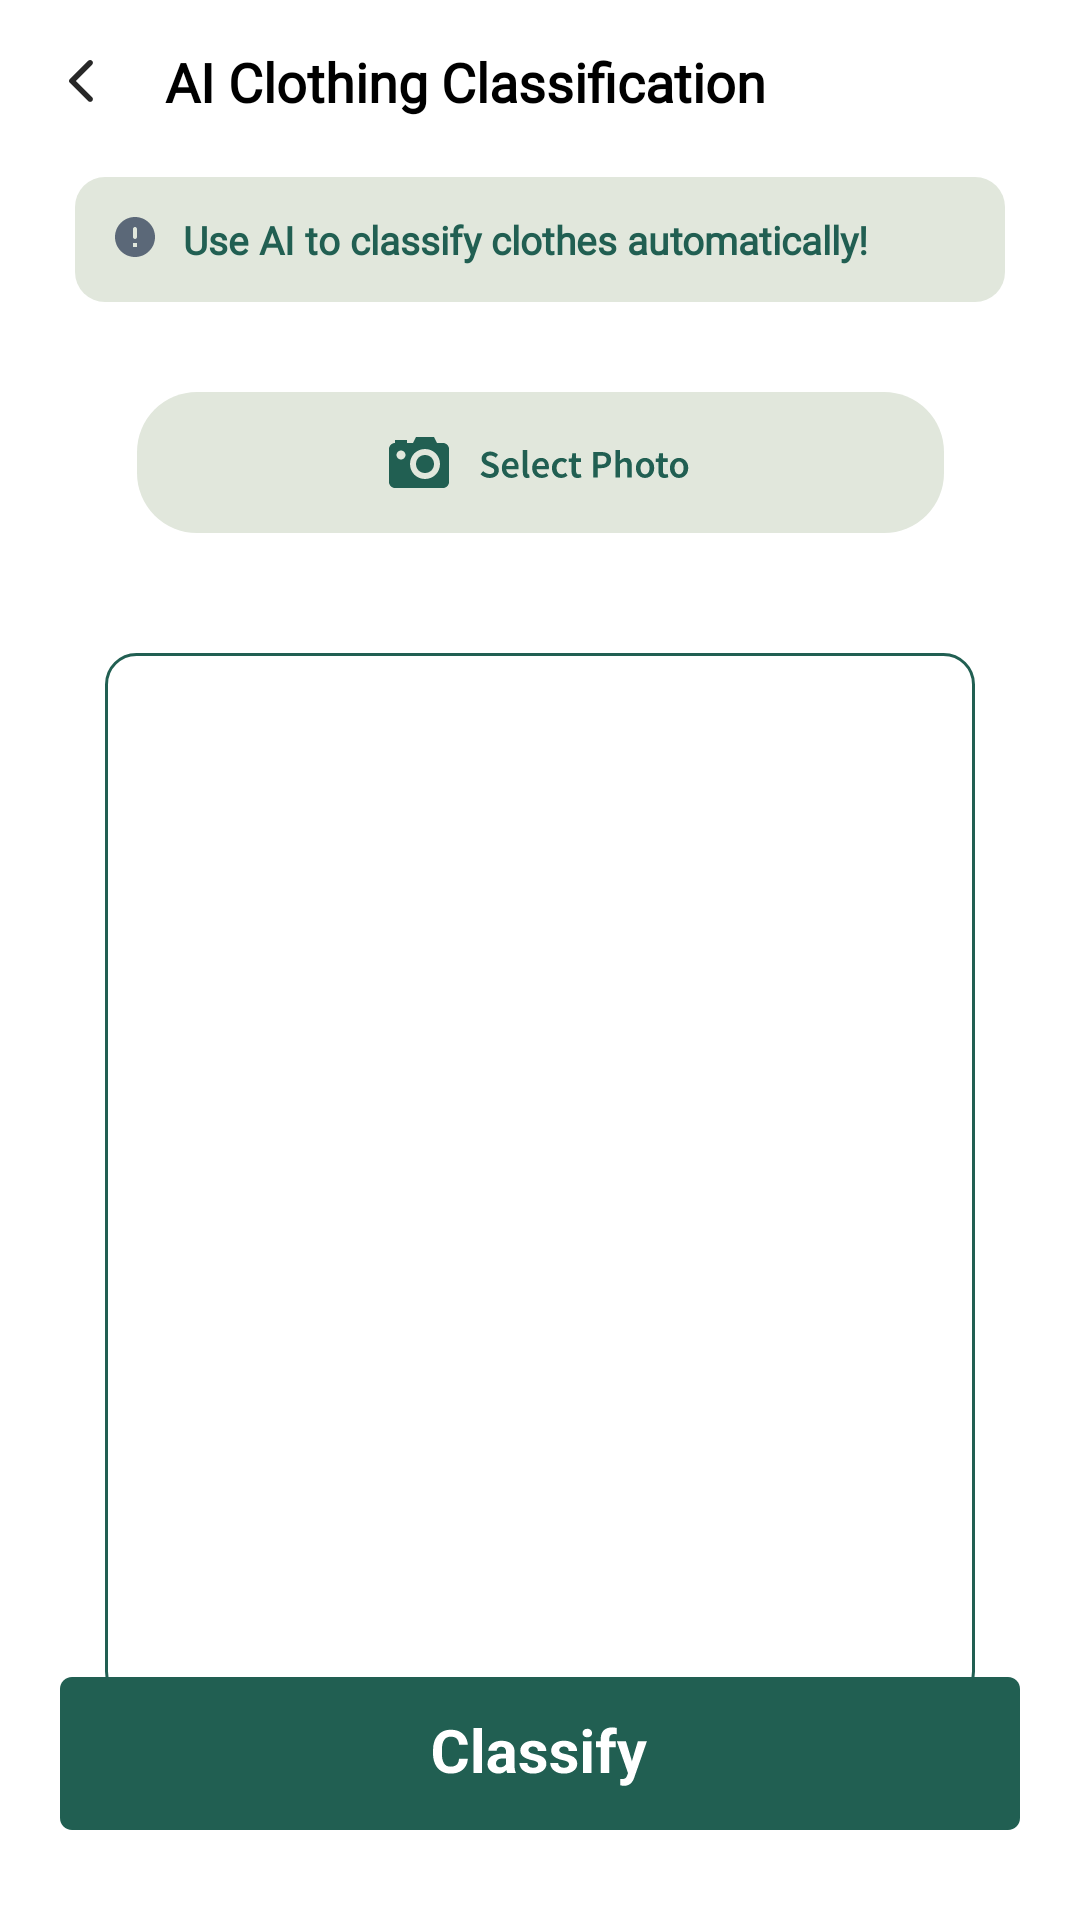

Screen size 1080w x 1920h. Icon name, then its center in pixels as point (x, y):
back: point (81, 81)
error: point (135, 237)
